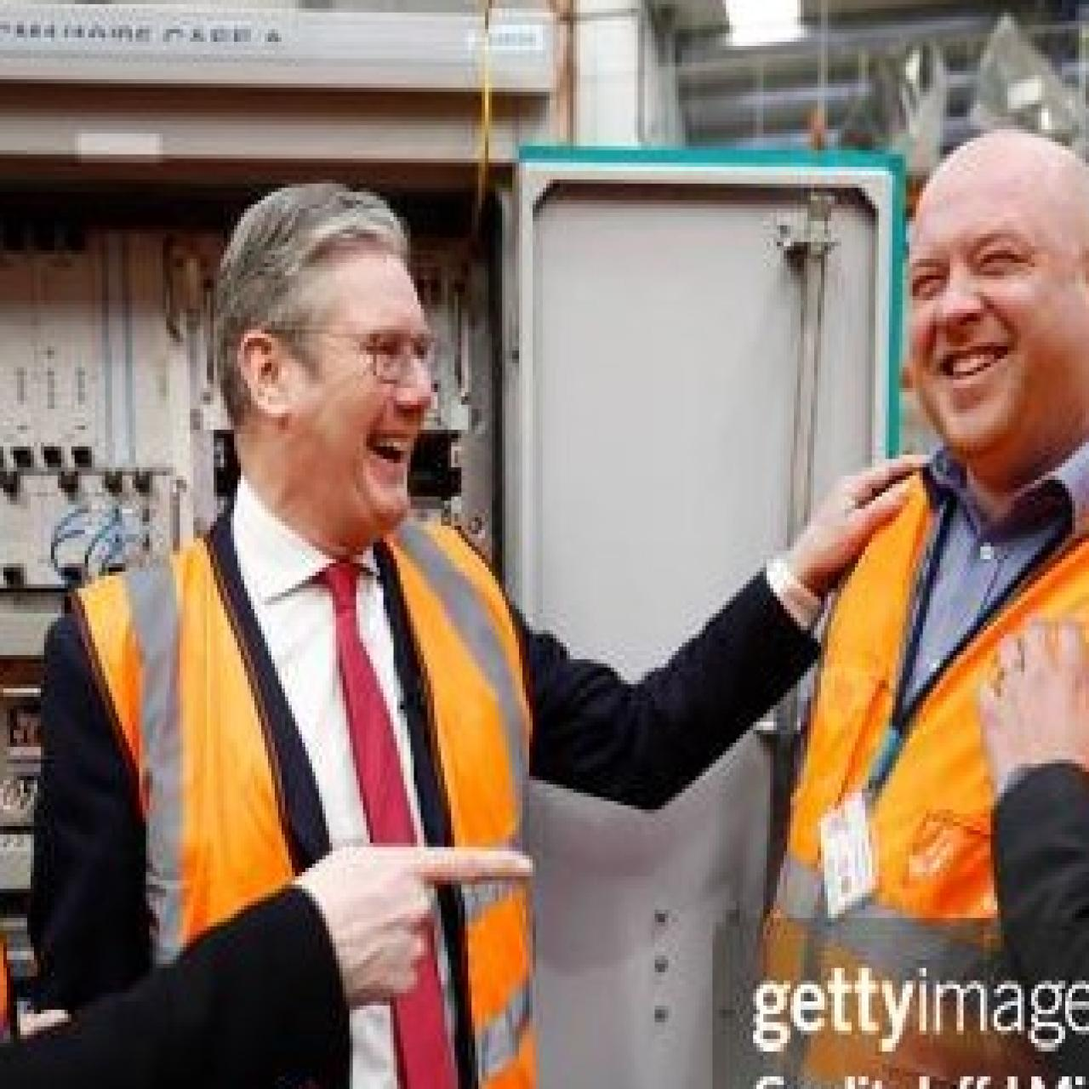Person: (28, 143, 685, 1089), (702, 108, 1088, 1089)
Safety_Vest: (54, 522, 536, 1089), (756, 434, 1089, 1089)
